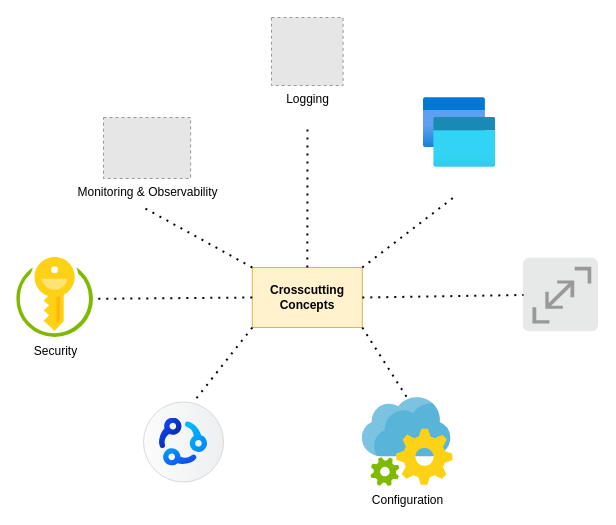
The diagram is 616 pixels wide and 525 high, and some of its shapes have lost their labels. Grey dashed boxes stand in for pictures. Here are the shapes that lost their labels. From the top down, the centre of each, then its label:
At (x=459, y=132): "Data Versioning".
At (x=560, y=294): "Scalability".
At (x=183, y=441): "CI/CD".
